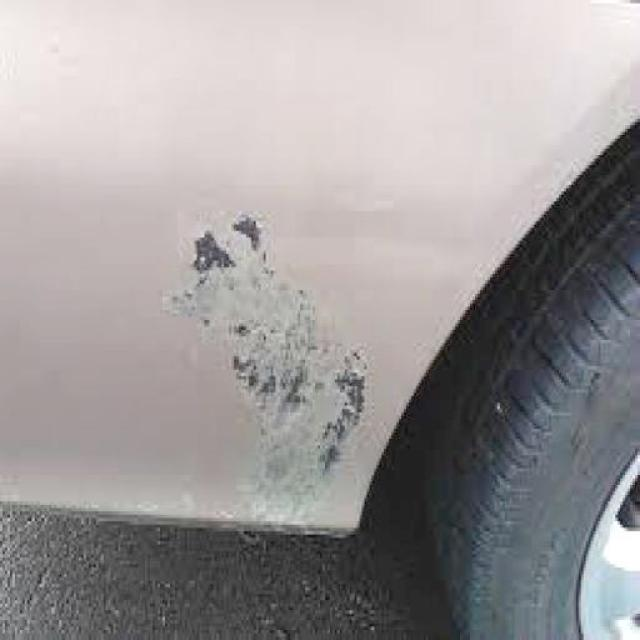car damage: (162, 195, 374, 531)
